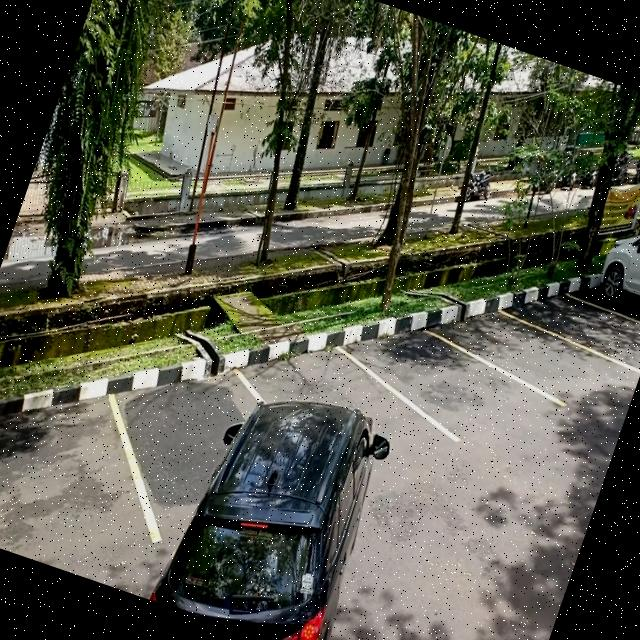empty: (0, 356, 176, 589), (371, 319, 518, 446), (467, 304, 598, 408)
